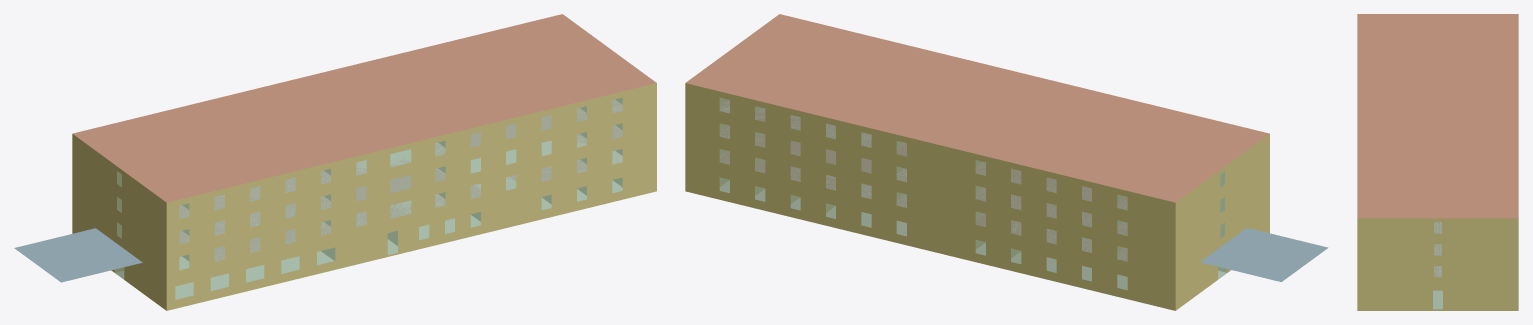
File: RefBldgSmallHotelNew2004_Chicago.gltf
3 views of the same model, side by side, from view 1: azimuth 30°, elevation 25°; view 2: azimuth 150°, elevation 25°; view 3: azimuth 270°, elevation 25° (orthographic). The views are drawn at different scales.
Visible parts, largest first — view 1: R_CorridorFlr4_1_0_0, R_GuestRoom402_405_1_0_0, R_GuestRoom420_423_1_0_0, R_GuestRoom409_412_1_0_0, R_GuestRoom415_418_1_0_0, R_GuestRoom406_408_1_0_0, W_FrontLoungeFlr1_5_0_0, Entry Canopy, W_GuestRoom302_305_5_0_0, W_GuestRoom309_312_5_0_0, W_GuestRoom202_205_5_0_0, W_GuestRoom402_405_5_0_0 (+47 smaller); view 2: R_CorridorFlr4_1_0_0, R_GuestRoom402_405_1_0_0, R_GuestRoom415_418_1_0_0, R_GuestRoom409_412_1_0_0, R_GuestRoom420_423_1_0_0, R_GuestRoom406_408_1_0_0, W_FrontOfficeFlr1_3_0_0, Entry Canopy, W_GuestRoom315_318_3_0_0, W_GuestRoom215_218_3_0_0, W_GuestRoom415_418_3_0_0, W_GuestRoom420_423_3_0_0 (+55 smaller); view 3: R_GuestRoom402_405_1_0_0, R_GuestRoom409_412_1_0_0, R_GuestRoom415_418_1_0_0, R_GuestRoom420_423_1_0_0, R_CorridorFlr4_1_0_0, R_GuestRoom406_408_1_0_0, W_RearStairsFlr1_2_0_0, W_RearStorageFlr1_2_0_0, W_RearStairsFlr2_2_0_0, W_RearStairsFlr3_2_0_0, W_RearStairsFlr4_2_0_0, W_RearStorageFlr2_2_0_0 (+18 smaller).
Part boxes in pixels (box(x1,y1,x2,y2)): R_CorridorFlr4_1_0_0: box(115, 45, 613, 171); R_GuestRoom402_405_1_0_0: box(160, 128, 343, 193); R_GuestRoom420_423_1_0_0: box(143, 82, 326, 147); R_GuestRoom409_412_1_0_0: box(416, 66, 598, 131); R_GuestRoom415_418_1_0_0: box(364, 28, 547, 93); R_GuestRoom406_408_1_0_0: box(301, 100, 457, 159); W_FrontLoungeFlr1_5_0_0: box(166, 236, 343, 310); Entry Canopy: box(14, 228, 142, 282); W_GuestRoom302_305_5_0_0: box(202, 185, 343, 245); W_GuestRoom309_312_5_0_0: box(458, 122, 599, 182); W_GuestRoom202_205_5_0_0: box(202, 211, 343, 270); W_GuestRoom402_405_5_0_0: box(202, 159, 343, 219); R_CorridorFlr4_1_0_0: box(728, 45, 1226, 171); R_GuestRoom402_405_1_0_0: box(1050, 90, 1233, 155); R_GuestRoom415_418_1_0_0: box(743, 66, 926, 131); R_GuestRoom409_412_1_0_0: box(795, 28, 977, 93); R_GuestRoom420_423_1_0_0: box(963, 120, 1146, 185); R_GuestRoom406_408_1_0_0: box(936, 62, 1092, 121); W_FrontOfficeFlr1_3_0_0: box(998, 236, 1139, 302); Entry Canopy: box(1200, 228, 1328, 281); W_GuestRoom315_318_3_0_0: box(742, 122, 883, 182); W_GuestRoom215_218_3_0_0: box(742, 148, 883, 208); W_GuestRoom415_418_3_0_0: box(742, 97, 883, 156); W_GuestRoom420_423_3_0_0: box(963, 151, 1104, 210); R_GuestRoom402_405_1_0_0: box(1357, 28, 1429, 87); R_GuestRoom409_412_1_0_0: box(1357, 135, 1429, 194); R_GuestRoom415_418_1_0_0: box(1446, 135, 1518, 194); R_GuestRoom420_423_1_0_0: box(1446, 43, 1518, 102); R_CorridorFlr4_1_0_0: box(1430, 14, 1518, 218); R_GuestRoom406_408_1_0_0: box(1357, 87, 1429, 135); W_RearStairsFlr1_2_0_0: box(1446, 284, 1518, 310); W_RearStorageFlr1_2_0_0: box(1357, 284, 1429, 310); W_RearStairsFlr2_2_0_0: box(1446, 262, 1518, 284); W_RearStairsFlr3_2_0_0: box(1446, 240, 1518, 262); W_RearStairsFlr4_2_0_0: box(1446, 218, 1518, 240); W_RearStorageFlr2_2_0_0: box(1357, 262, 1429, 284).
Bounding box in the file's own units: 64.06 × 11.58 × 18.29.
